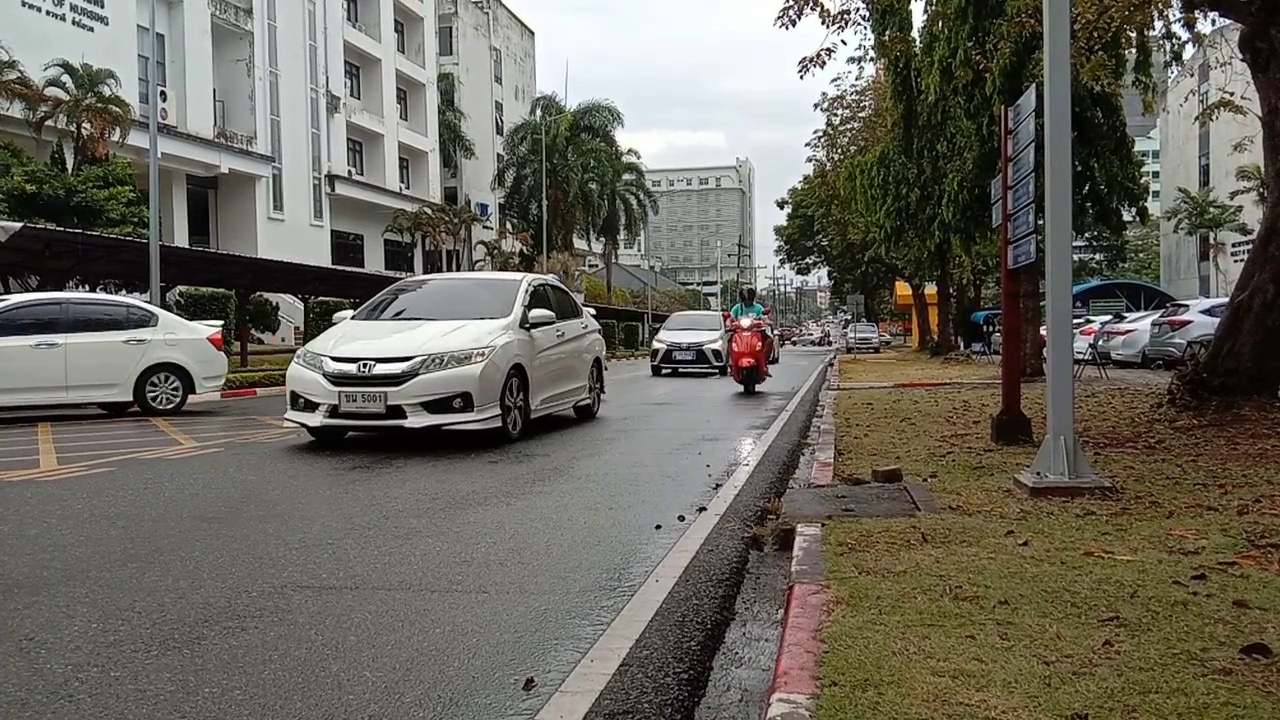License Plate: (337, 392, 387, 412), (671, 348, 695, 362)
